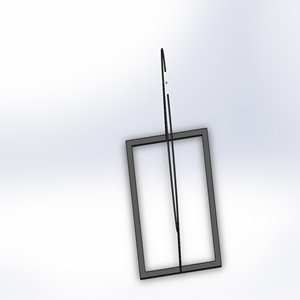circle: (121, 45, 225, 281)
